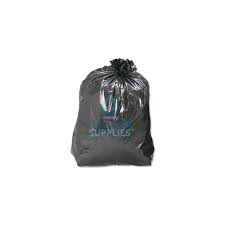Trash: (74, 54, 157, 173)
